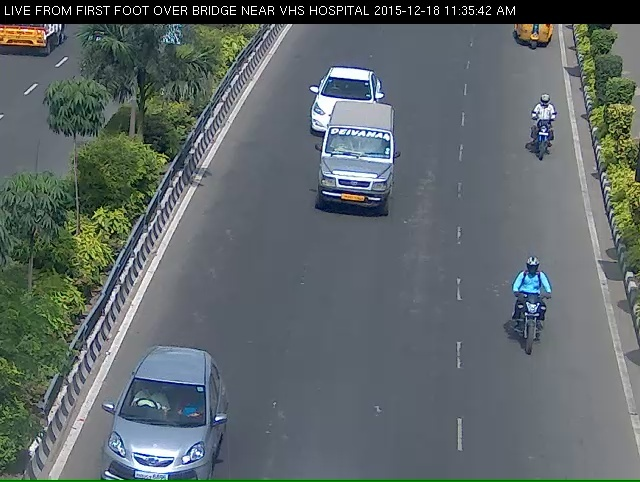Auto: (506, 21, 560, 52)
Car: (96, 387, 219, 480), (322, 113, 394, 235), (295, 76, 382, 154)
Person: (510, 286, 560, 384), (522, 103, 559, 181)
